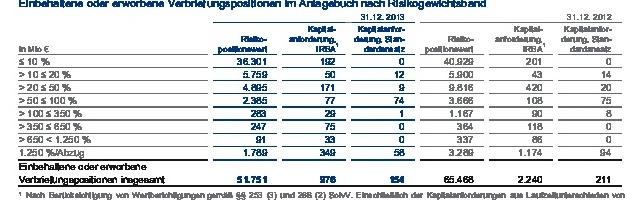table: (0, 0, 637, 200)
